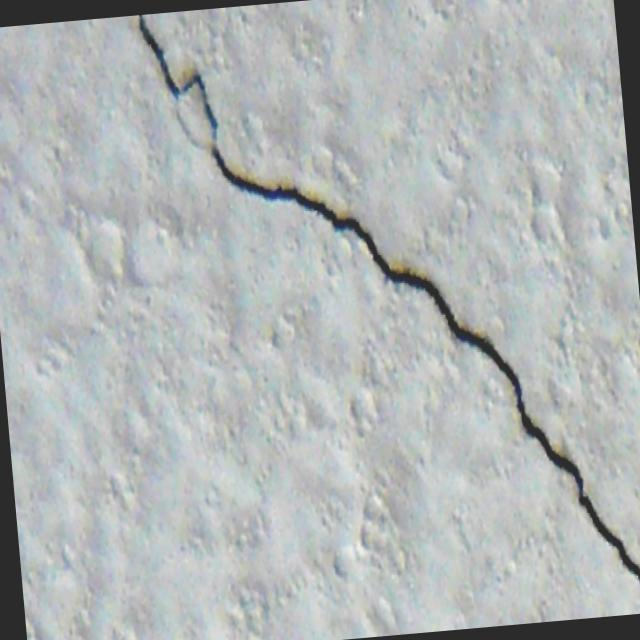crack: (135, 0, 426, 322), (424, 260, 640, 623)
